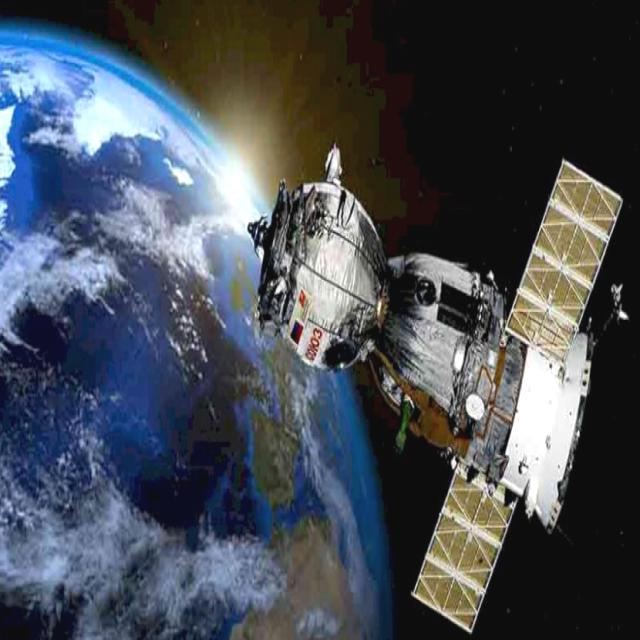satellite: (239, 123, 640, 638)
